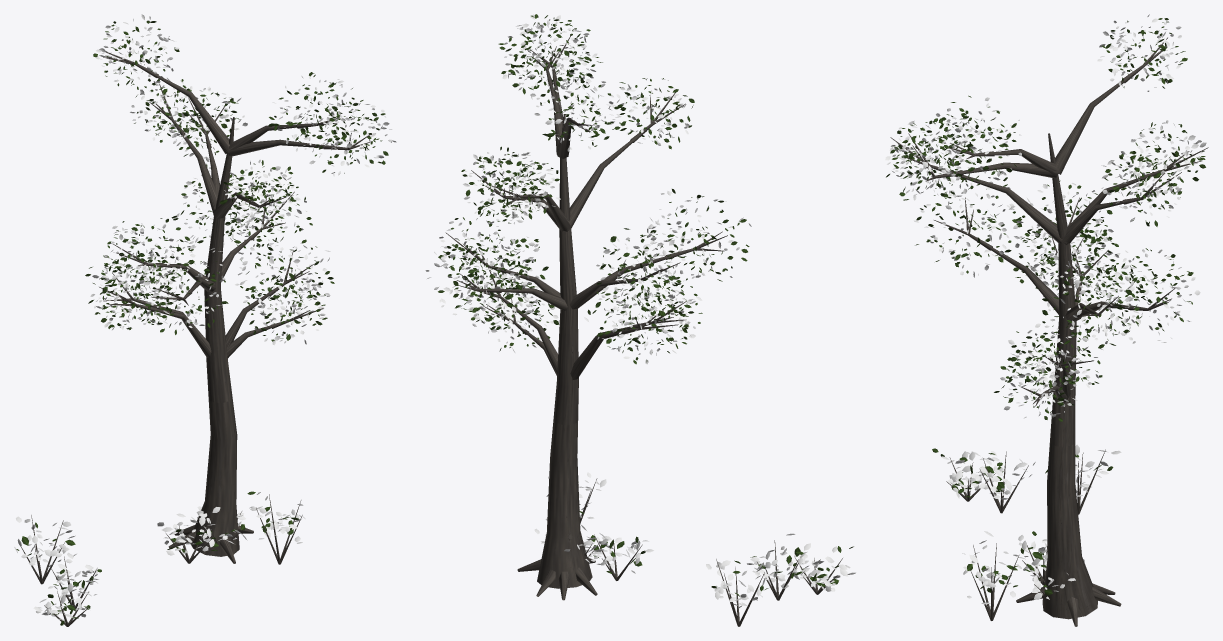
File: SM_Env_Tile_m2_m4.fbx
The picture shows the model from 3 angles, left to right: view 1: azimuth 30°, elevation 25°; view 2: azimuth 150°, elevation 25°; view 3: azimuth 270°, elevation 25°; orthographic projection. The views are drawn at different scales.
Visible parts, largest first — view 1: SM_Env_Tile_m2_m4; view 2: SM_Env_Tile_m2_m4; view 3: SM_Env_Tile_m2_m4.
Part boxes in pixels (x1,y1,x2,y2): SM_Env_Tile_m2_m4: (14,14,396,626); SM_Env_Tile_m2_m4: (425,14,855,626); SM_Env_Tile_m2_m4: (885,14,1208,626).
Size of the model in its own units: 1106 by 819 by 1570.
Materials: 5 (2 with a texture image).
